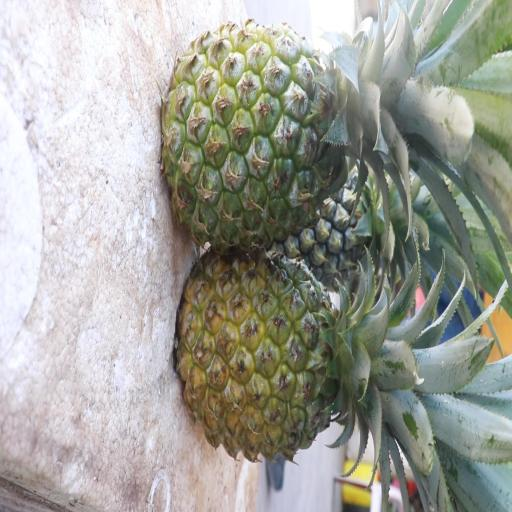------------------------------: (162, 22, 387, 241)
Pineapple - v8 v1: (176, 255, 390, 470)
